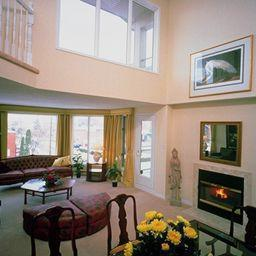Otro Obstaculo: (167, 147, 184, 209)
Puerta: (134, 113, 158, 192)
